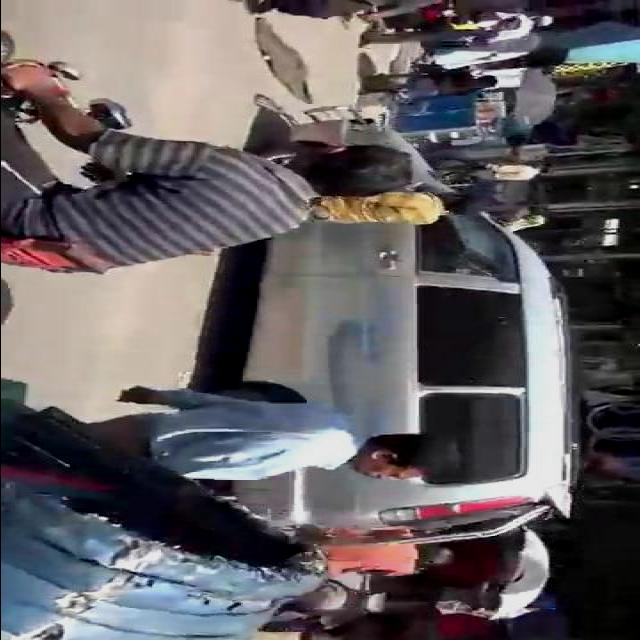motorcycle: (1, 33, 424, 640)
truck: (231, 104, 583, 553)
